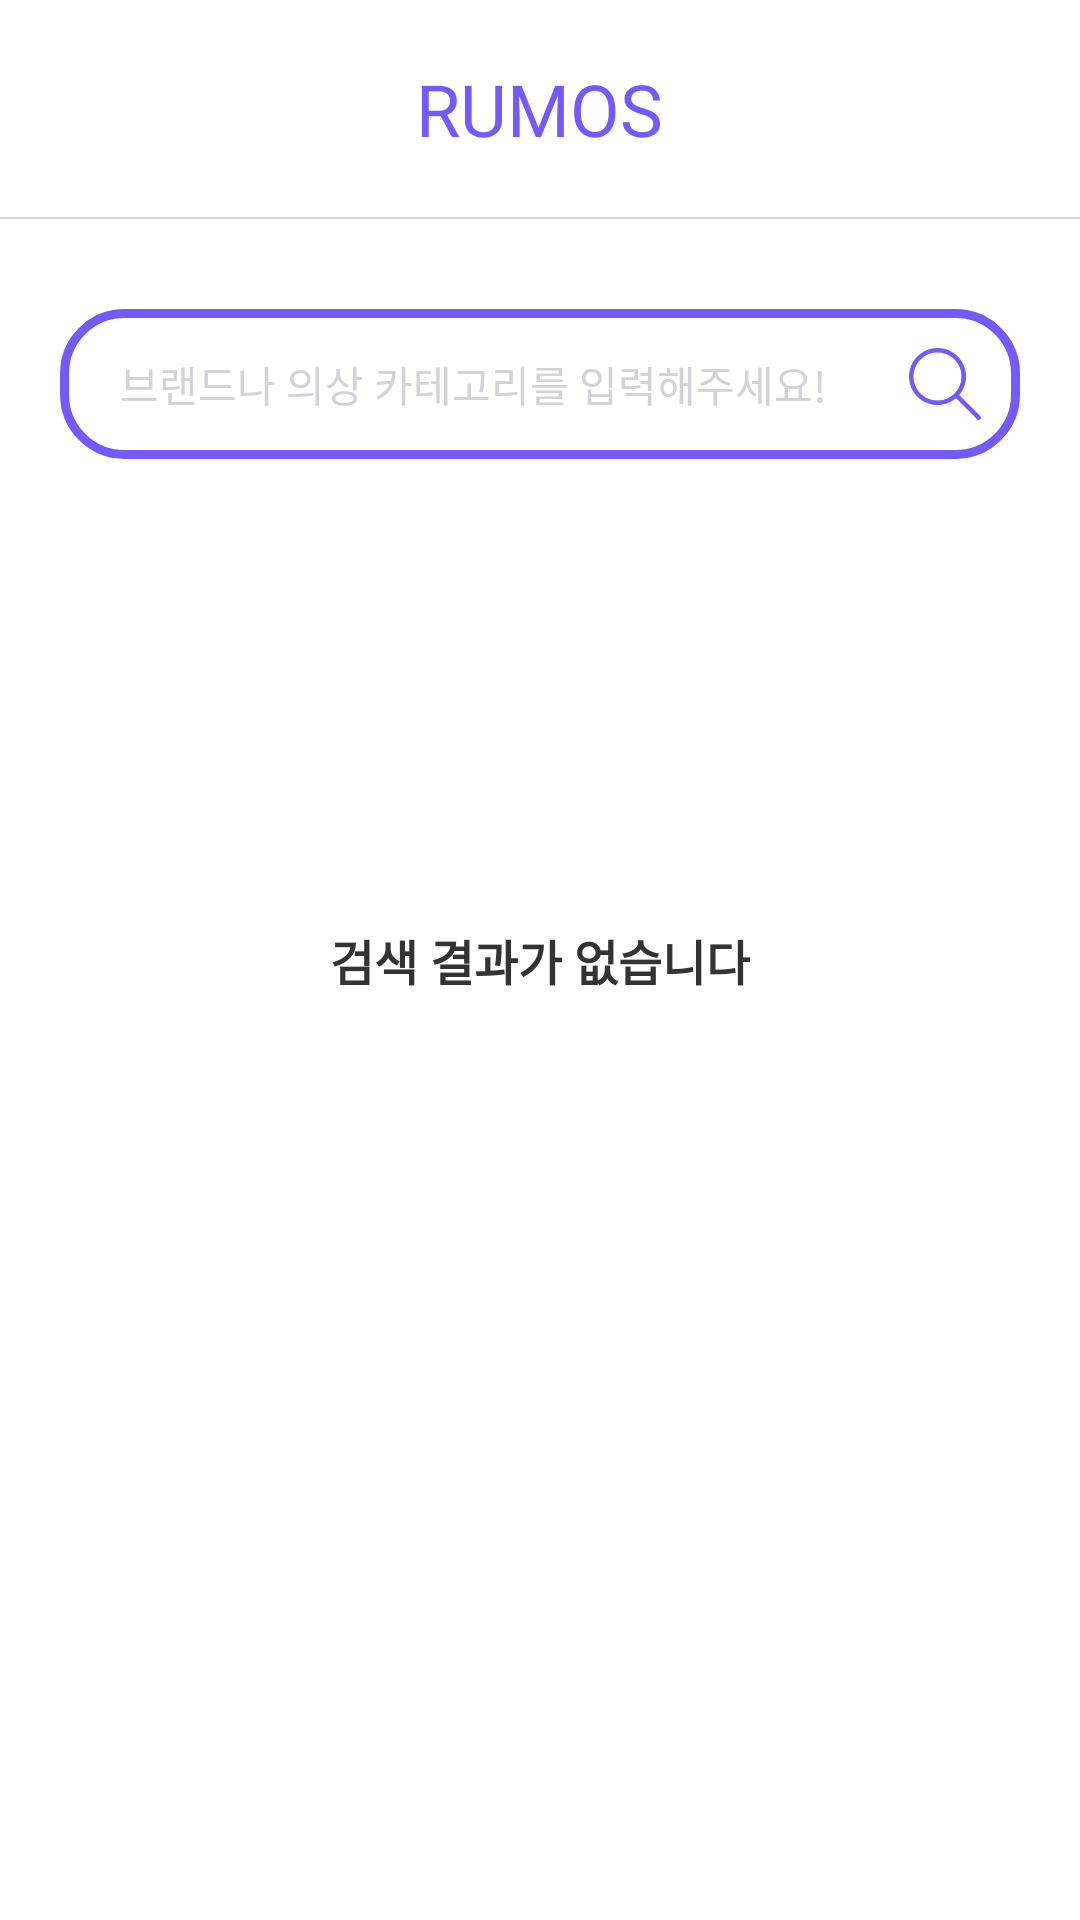

Named icons in this screenshot (1080px×1920px) and their centers, point (x, y):
search: point (945, 384)
